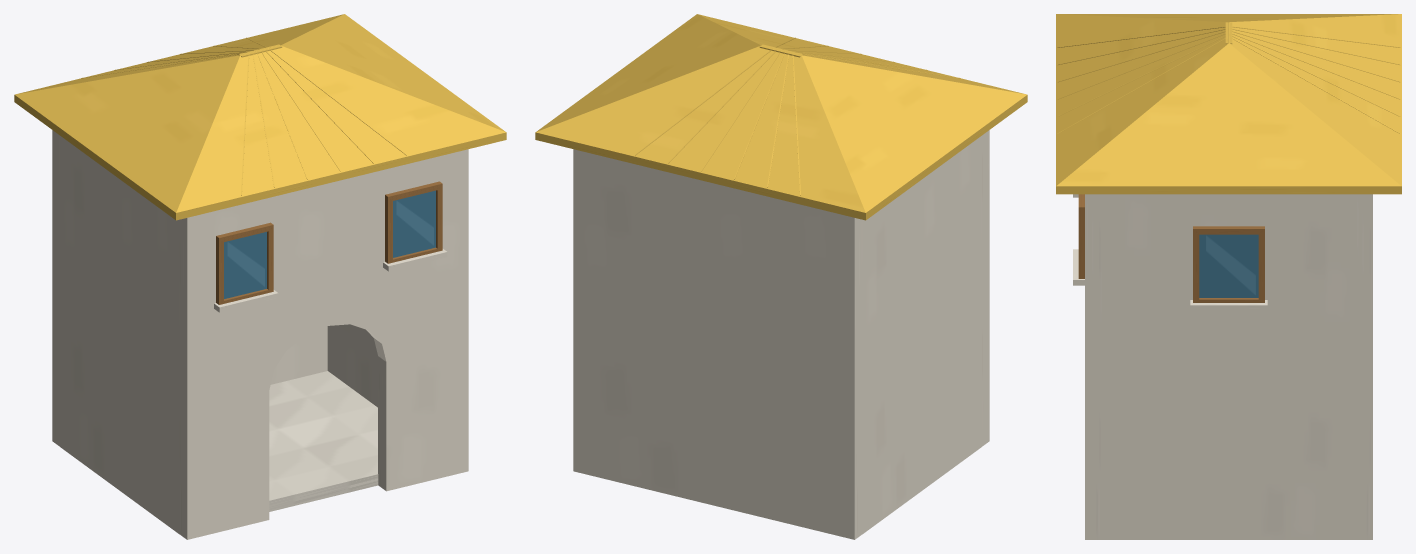
The model's file is town_house_cream.glb.
The picture shows the model from 3 angles, left to right: view 1: azimuth 30°, elevation 25°; view 2: azimuth 150°, elevation 25°; view 3: azimuth 270°, elevation 25°; orthographic projection. The views are drawn at different scales.
Visible parts, largest first — view 1: town_house_cream; view 2: town_house_cream; view 3: town_house_cream.
Boxes of the visible parts, <box> form: town_house_cream: <box>14,14,506,539</box>; town_house_cream: <box>535,14,1027,539</box>; town_house_cream: <box>1056,14,1401,539</box>.
Bounding box in the file's own units: 4.6 × 5.4 × 3.9.
5 materials, 5 textured.
